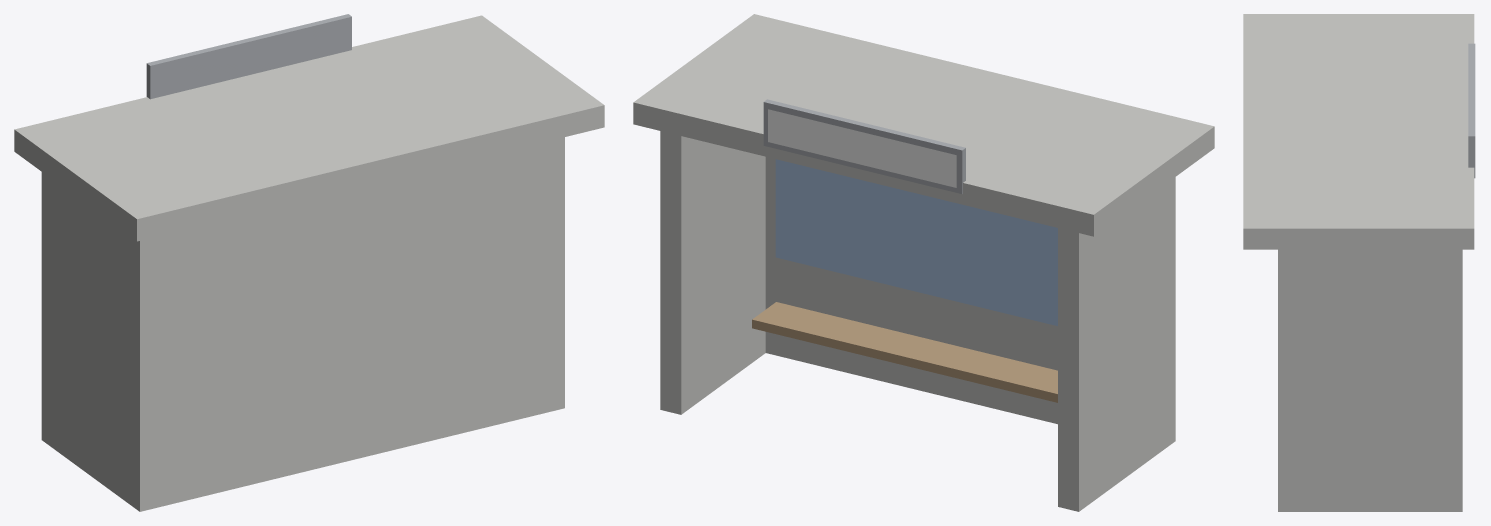
The model's file is bus_stop.glb.
3 views of the same model, side by side, from view 1: azimuth 30°, elevation 25°; view 2: azimuth 150°, elevation 25°; view 3: azimuth 270°, elevation 25° (orthographic). The views are drawn at different scales.
Parts seen in each view (by area): view 1: bus_stop; view 2: bus_stop; view 3: bus_stop.
Part boxes in pixels (x1=…): bus_stop: x1=14, y1=14, x2=604, y2=511; bus_stop: x1=633, y1=14, x2=1214, y2=511; bus_stop: x1=1243, y1=14, x2=1475, y2=511.
Size of what is drawn, in the model's own units: 4.4 by 3.1 by 2.02.
